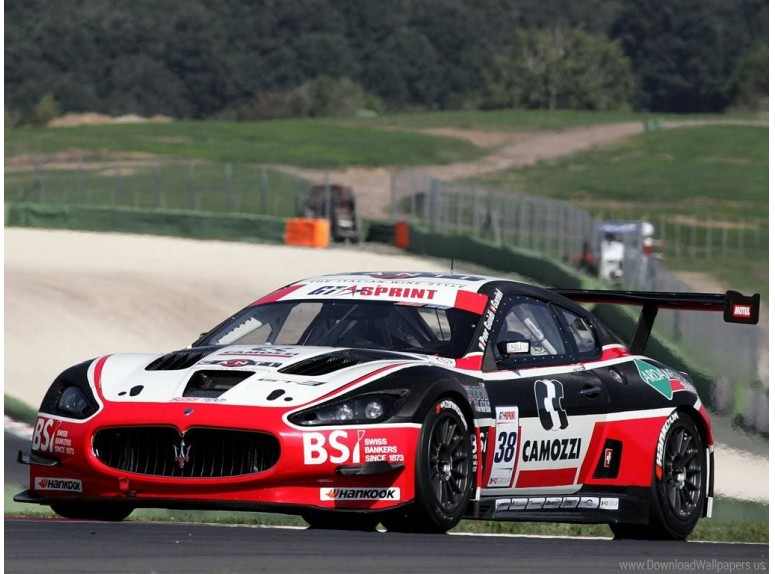Carro: (21, 259, 767, 548)
